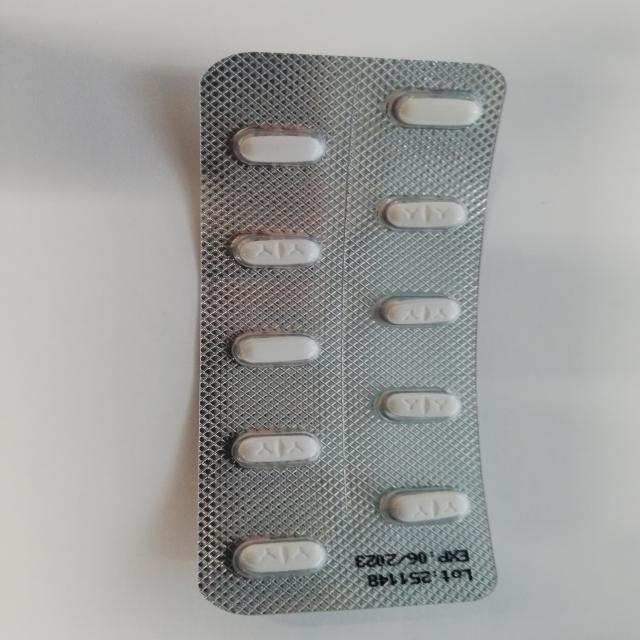Pill: (220, 419, 337, 475), (222, 119, 332, 178), (220, 531, 332, 586), (217, 319, 326, 375), (370, 378, 467, 429), (374, 189, 476, 237), (224, 228, 328, 275), (385, 93, 498, 135), (374, 483, 478, 528), (369, 289, 474, 333)
